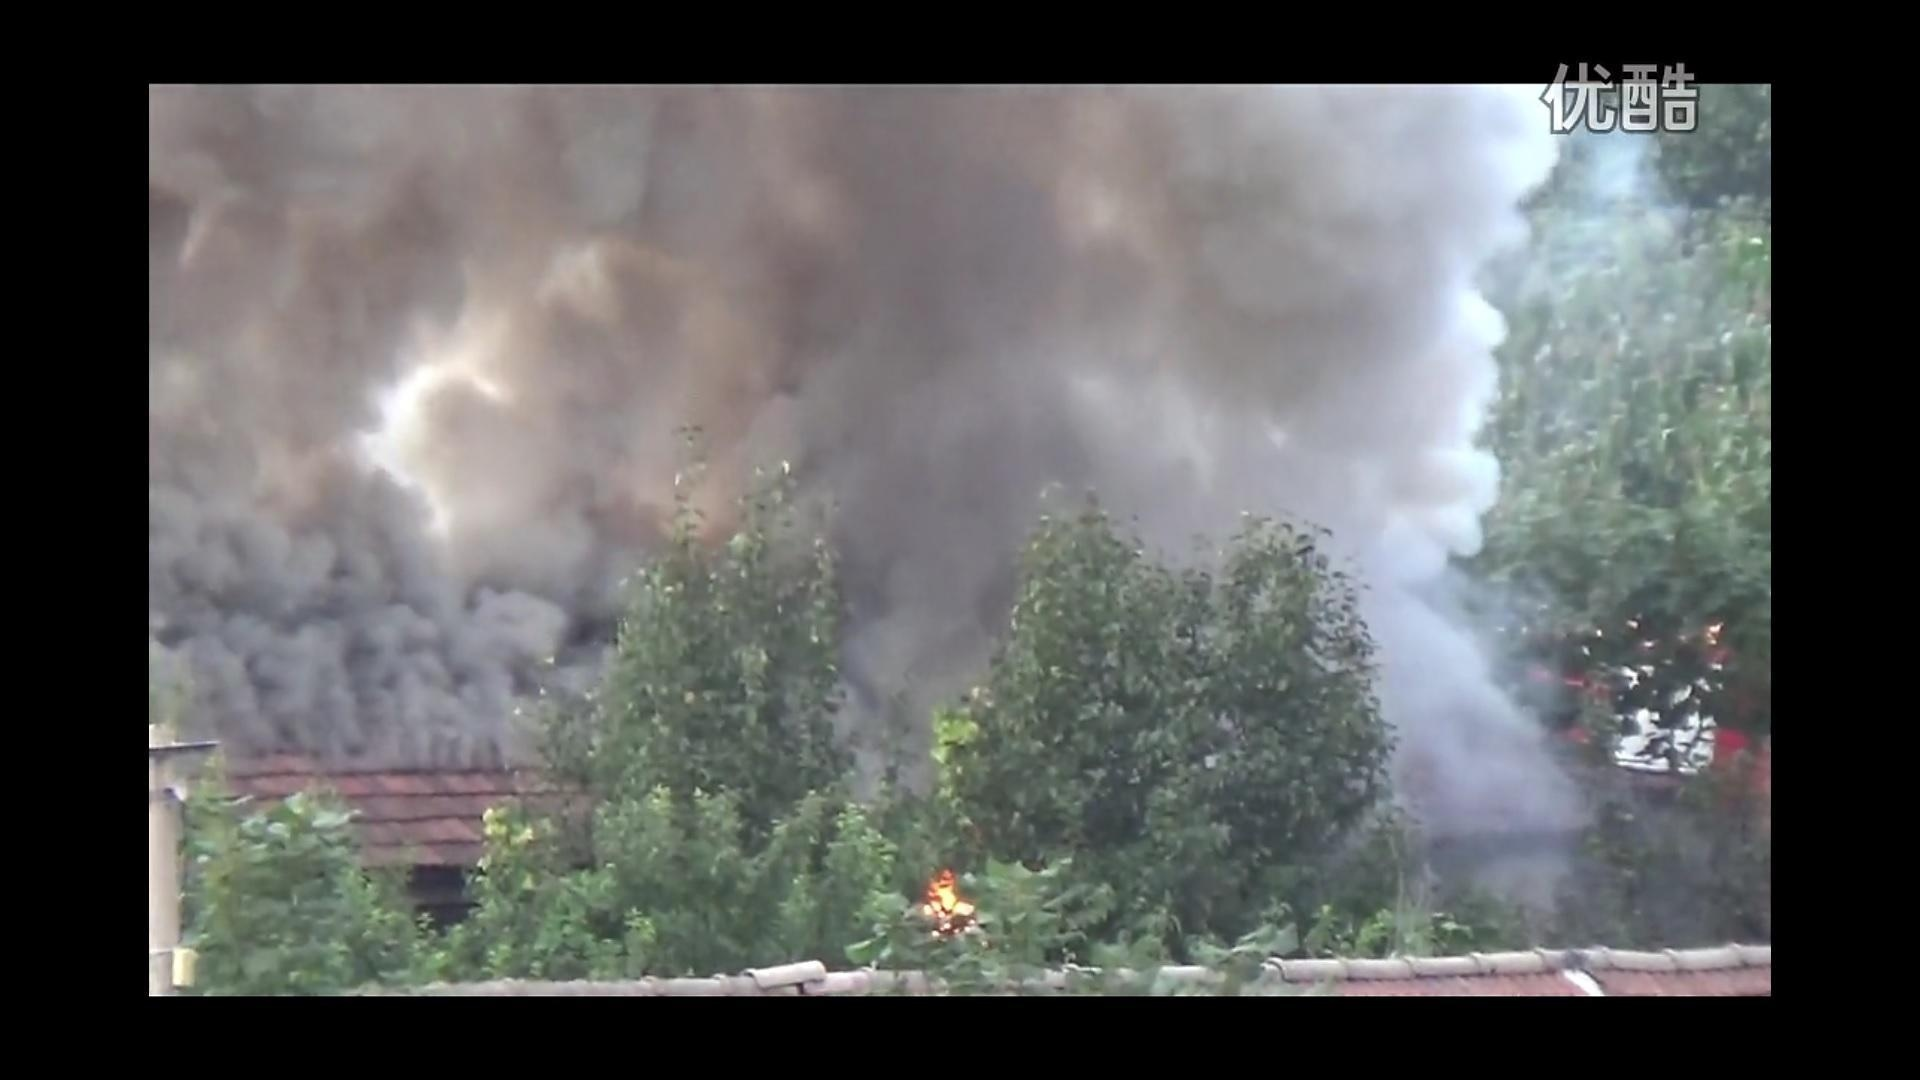fire: (918, 866, 978, 938)
